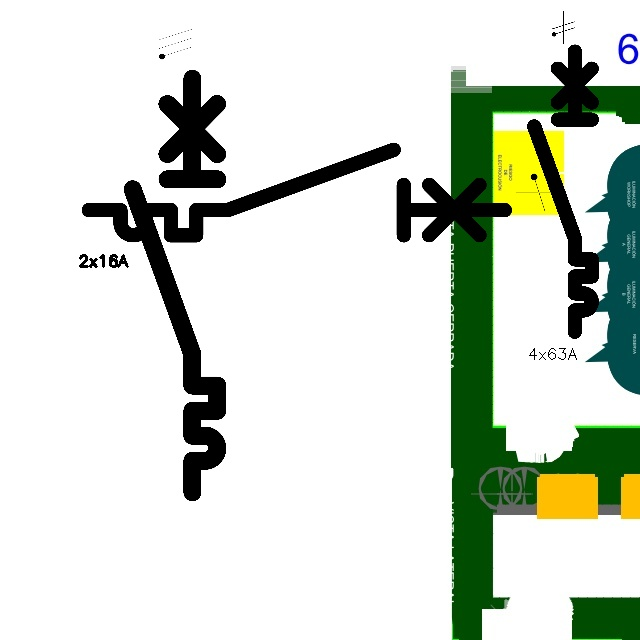interruptor_termomagnetico: (78, 139, 515, 246), (122, 68, 228, 503), (527, 44, 599, 339)
